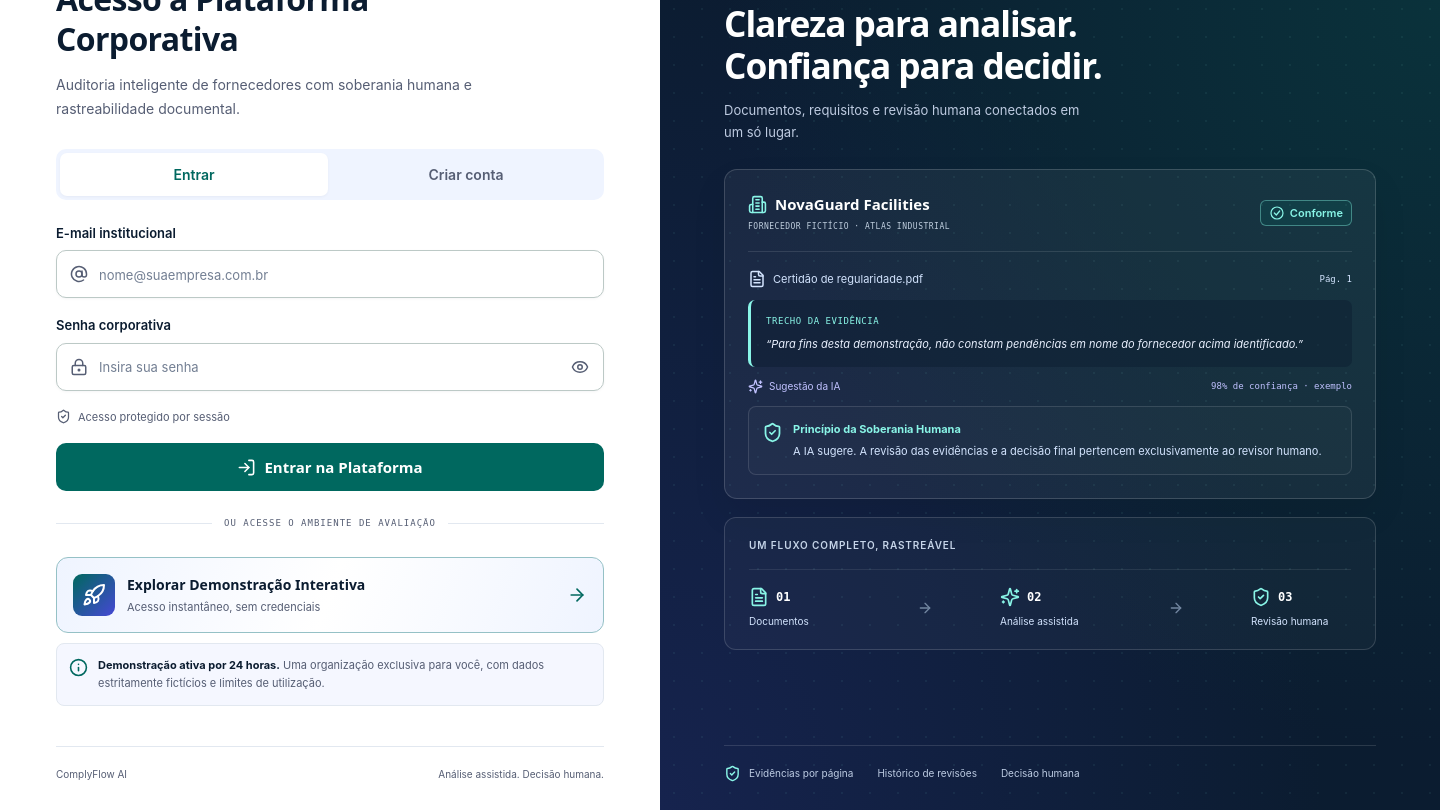
Test case: Login and protected navigation › starts an isolated demo, restores server identity and opens the dashboard
This screenshot has width=1440, height=810.
(page scrolled)
Click the button "Explorar Demonstração" at (330,595), box [56,557,604,633]
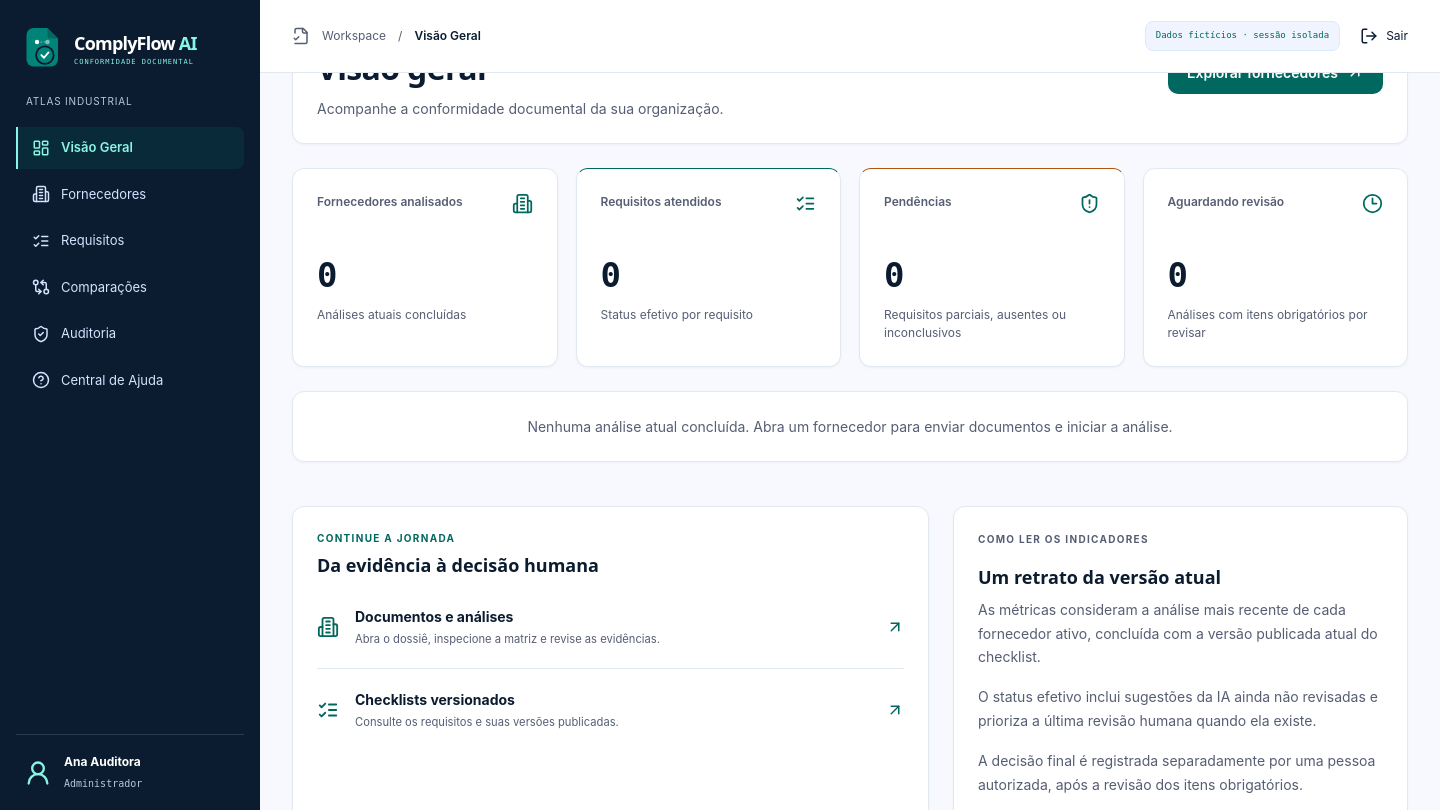
Expected: the text "Dados fictícios · sessão isolada" is shown, [1145,21,1340,51]
